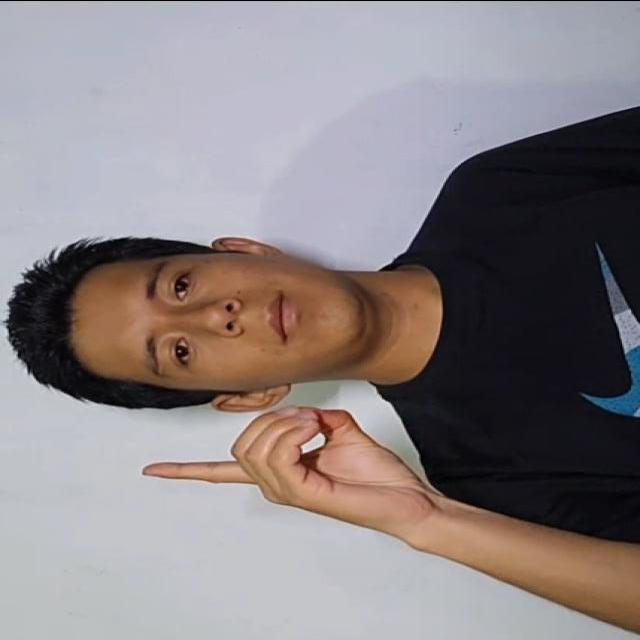D: (110, 395, 427, 541)
